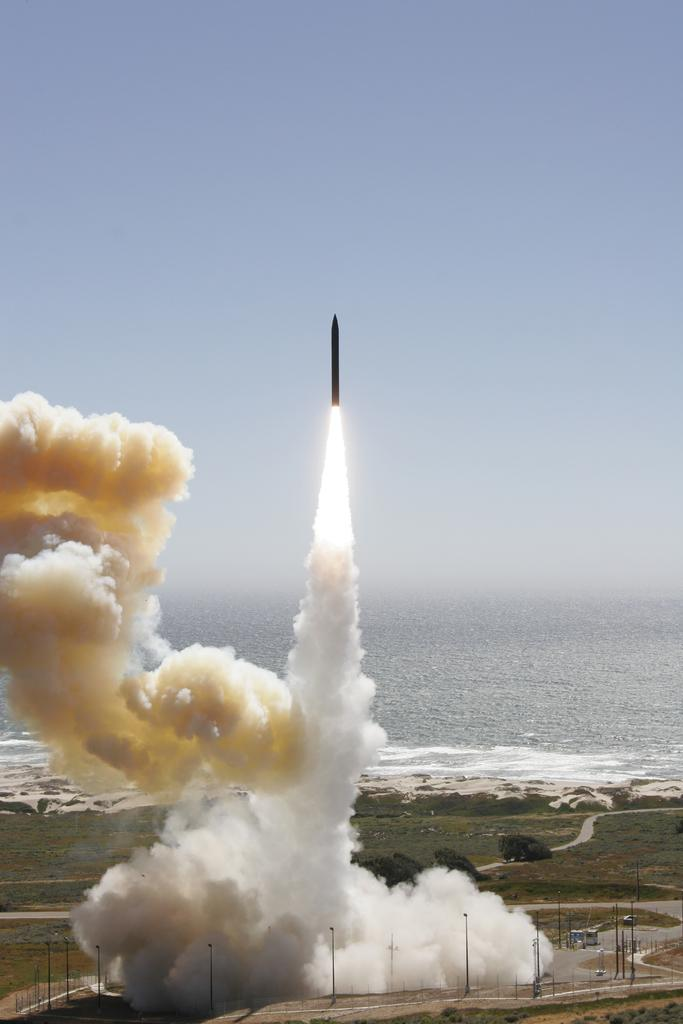Missile: (329, 312, 341, 408)
